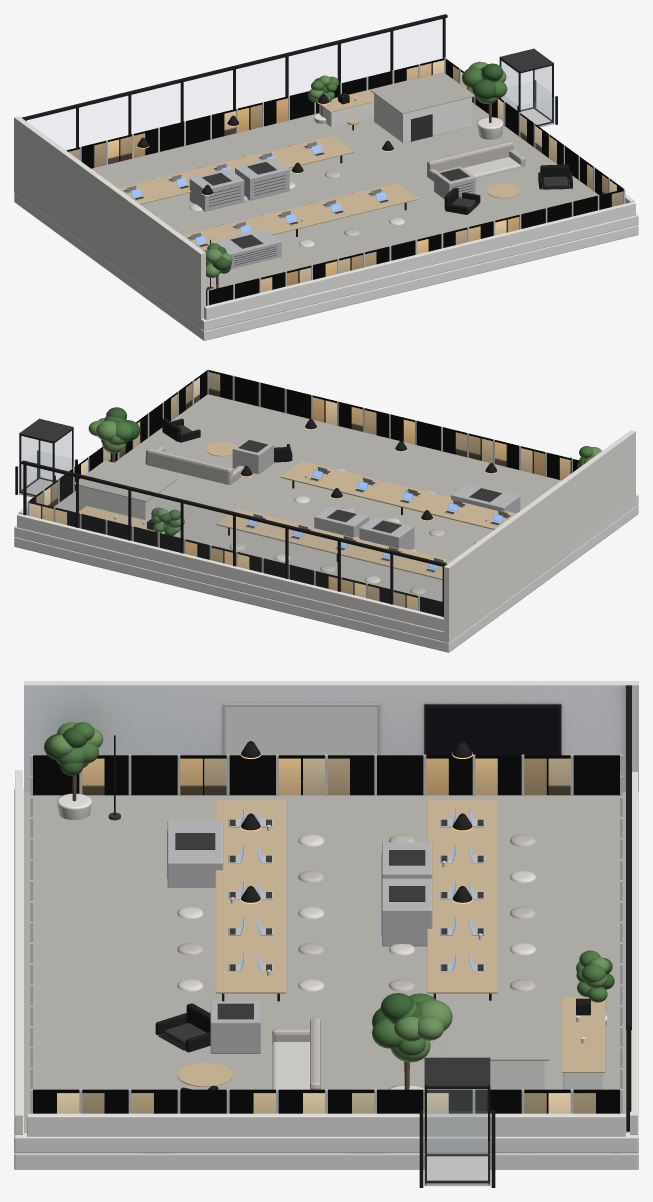
Rendered from office.glb.
3 renders of one model, top to bottom at view 1: azimuth 30°, elevation 25°; view 2: azimuth 150°, elevation 25°; view 3: azimuth 270°, elevation 25°, orthographic. The views are drawn at different scales.
Parts seen in each view (by area): view 1: roof_slab, facade_glass, wall_left_core, glass_back, roof_equipment, slab_closed, table_2, curtain_wall, table_1, slab_open, sofa, tree_1 (+12 smaller); view 2: roof_slab, glass_back, facade_glass, wall_left_core, roof_equipment, slab_closed, table_2, curtain_wall, table_1, slab_open, facade_mullions, sofa (+11 smaller); view 3: roof_slab, facade_glass, baked_wall_left, roof_equipment, table_2, table_1, slab_closed, task_board, wall_screen, cabin_glass_px, facade_mullions, cabin_frame (+15 smaller).
Boxes of the visible parts, x1=… form: roof_slab: x1=14, y1=102, x2=638, y2=330; facade_glass: x1=66, y1=58, x2=623, y2=305; wall_left_core: x1=14, y1=116, x2=205, y2=328; glass_back: x1=27, y1=19, x2=442, y2=149; roof_equipment: x1=189, y1=72, x2=475, y2=290; slab_closed: x1=14, y1=193, x2=638, y2=340; table_2: x1=182, y1=183, x2=418, y2=250; curtain_wall: x1=22, y1=14, x2=447, y2=147; table_1: x1=118, y1=136, x2=353, y2=204; slab_open: x1=14, y1=194, x2=638, y2=340; sofa: x1=427, y1=141, x2=525, y2=181; tree_1: x1=462, y1=61, x2=507, y2=139; roof_slab: x1=14, y1=394, x2=638, y2=641; glass_back: x1=26, y1=466, x2=441, y2=615; facade_glass: x1=29, y1=370, x2=578, y2=616; wall_left_core: x1=444, y1=430, x2=635, y2=642; roof_equipment: x1=73, y1=438, x2=571, y2=549; slab_closed: x1=14, y1=504, x2=638, y2=652; table_2: x1=280, y1=461, x2=516, y2=529; curtain_wall: x1=21, y1=460, x2=447, y2=617; table_1: x1=216, y1=508, x2=452, y2=579; slab_open: x1=14, y1=506, x2=638, y2=651; facade_mullions: x1=27, y1=369, x2=572, y2=610; sofa: x1=145, y1=446, x2=244, y2=484; roof_slab: x1=14, y1=770, x2=638, y2=1153; facade_glass: x1=33, y1=755, x2=619, y2=1113; baked_wall_left: x1=24, y1=685, x2=625, y2=792; roof_equipment: x1=108, y1=735, x2=549, y2=1089; table_2: x1=215, y1=800, x2=286, y2=1001; table_1: x1=427, y1=800, x2=497, y2=1000; slab_closed: x1=14, y1=1153, x2=638, y2=1169; task_board: x1=225, y1=707, x2=376, y2=755; wall_screen: x1=427, y1=708, x2=558, y2=755; cabin_glass_px: x1=428, y1=1090, x2=486, y2=1179; facade_mullions: x1=30, y1=754, x2=622, y2=1113; cabin_frame: x1=424, y1=1057, x2=490, y2=1185.
Bounding box in the file's own units: 18 × 3.32 × 12.4.
29 materials, 4 textured.
